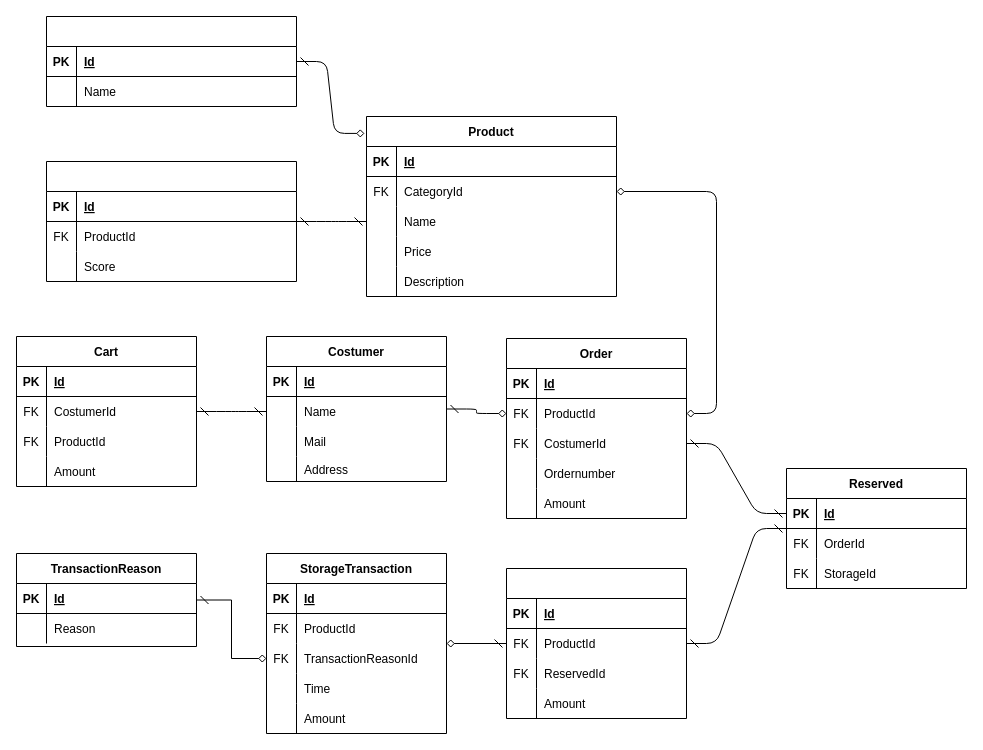
Image size: 983x750. Some labels were removed from this diagram. Here are the shapes that lost their labels. From the top down, the box of each, then its label:
(46, 16, 296, 106): Category
(46, 160, 296, 282): Popularity
(506, 568, 686, 718): Storage
